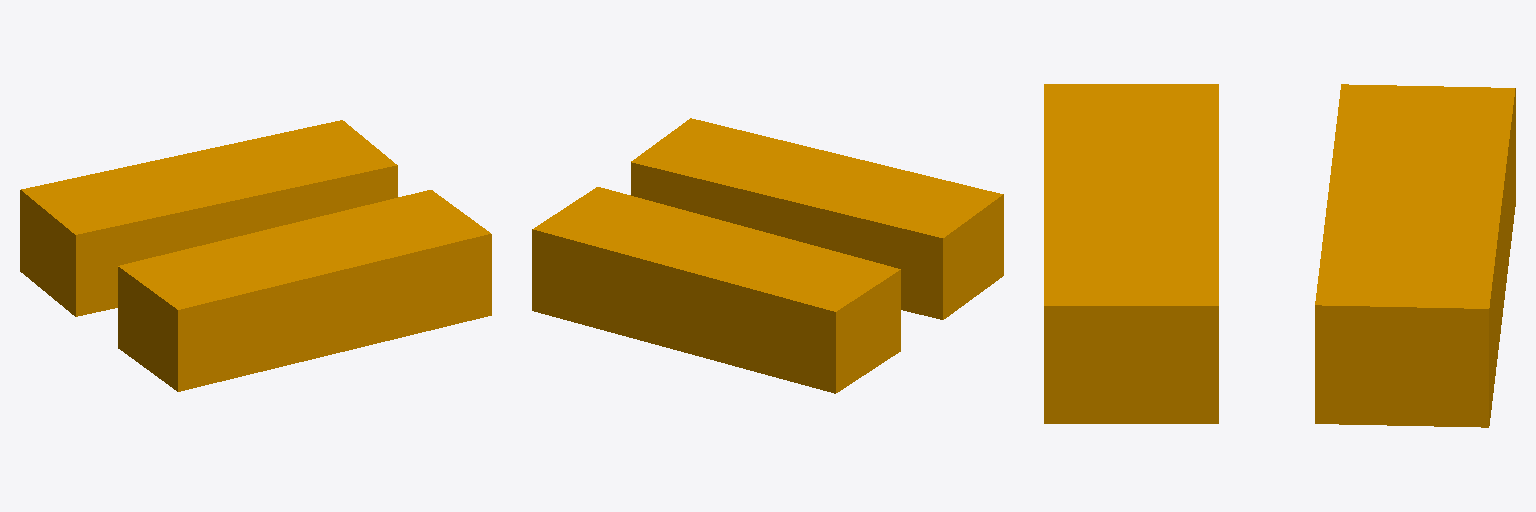
URDF robot description (bauzil_stairs.urdf):
<robot name="bauzil_stairs.urdf">
  <link concave="yes" name="baseLink">
    <inertial>
      <origin rpy="0 0 0" xyz="0 0 0"/>
      <mass value="0.0"/>
      <inertia ixx="0" ixy="0" ixz="0" iyy="0" iyz="0" izz="0"/>
    </inertial>
    <visual>
      <origin rpy="0 0 -0.75" xyz="-1.2 -1.5 -0.01"/>
      <geometry>
        <mesh filename="bauzil_stairs.stl" scale="0.7 1.0 0.5"/>
      </geometry>
      <material name="red">
        <color rgba="0.63 0.32 0.255 1"/>
      </material>
    </visual>
    <collision concave="yes">
      <origin rpy="0 0 -0.75" xyz="-1.2 -1.5 -0.01"/>
      <geometry>
        <mesh filename="bauzil_stairs.stl" scale="0.7 1.0 0.5"/>
      </geometry>
    </collision>
    <!-- Adding visual element for the Block -->
    <visual>
      <origin rpy="0 0 -0.05" xyz="1.0 0.425 0"/> <!-- Adjust the xyz and rpy values as needed -->
      <geometry>
        <mesh filename="Block.stl" scale="0.0015 0.0005 0.00075"/> <!-- Adjust scale as needed -->
      </geometry>
      <!-- Optional: Define the Block's material here, similar to the stairs' red material -->
    </visual>
    <!-- Adding collision element for the Block -->
    <collision>
      <origin rpy="0 0 -0.05" xyz="1.0 0.425 0"/> <!-- Adjust the xyz and rpy values as needed -->
      <geometry>
        <mesh filename="Block.stl" scale="0.0015 0.0005 0.00075"/> <!-- Adjust scale as needed -->
      </geometry>
    </collision>
        <!-- Adding visual element for the Block -->
    <visual>
      <origin rpy="0 0 0" xyz="1.0 -0.425 0"/> <!-- Adjust the xyz and rpy values as needed -->
      <geometry>
        <mesh filename="Block.stl" scale="0.0015 0.0005 0.00075"/> <!-- Adjust scale as needed -->
      </geometry>
      <!-- Optional: Define the Block's material here, similar to the stairs' red material -->
    </visual>
    <!-- Adding collision element for the Block -->
    <collision>
      <origin rpy="0 0 0" xyz="1.0 -0.425 0"/> <!-- Adjust the xyz and rpy values as needed -->
      <geometry>
        <mesh filename="Block.stl" scale="0.0015 0.0005 0.00075"/> <!-- Adjust scale as needed -->
      </geometry>
    </collision>
  </link>
</robot>

--- Facts derived from the render (not from the file) ---
3 views of the same robot in one strip: view 1: azimuth 30°, elevation 25°; view 2: azimuth 150°, elevation 25°; view 3: azimuth 270°, elevation 25° (orthographic).
Robot: bauzil_stairs.urdf — 1 links, 0 joints (none); root link baseLink; default pose: all joints at 0.
Visible links, largest first — view 1: baseLink; view 2: baseLink; view 3: baseLink.
Boxes of the visible links, box(x1,y1,x2,y2) form: baseLink: box(20, 120, 491, 391); baseLink: box(532, 118, 1003, 393); baseLink: box(1044, 84, 1515, 427).
Bounding box of the posed robot: 1.52 × 1.35 × 0.375 m (x, y, z).
Meshes: 2 distinct files referenced, 2 mesh visuals loaded (1 binary STL); not drawn: 1 (reference not matched to a file when rendering).
